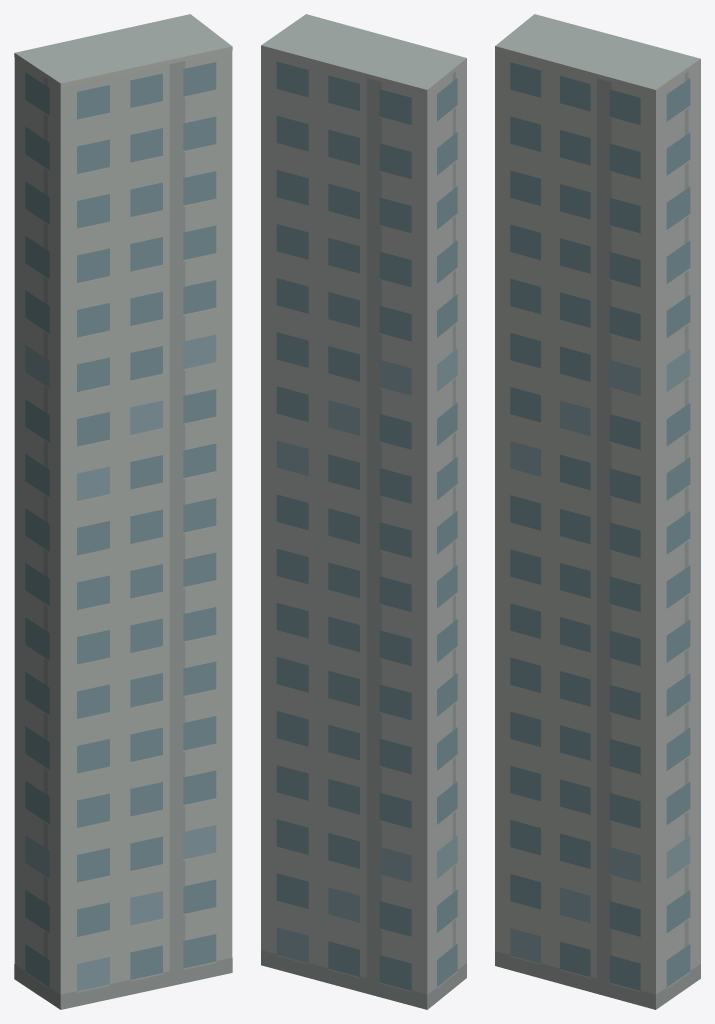
The model's file is survey-upis-32592218.glb.
3 renders of one model, left to right at view 1: azimuth 30°, elevation 25°; view 2: azimuth 150°, elevation 25°; view 3: azimuth 330°, elevation 25°, orthographic.
Visible parts, largest first — view 1: survey-upis-32592218.tmp; view 2: survey-upis-32592218.tmp; view 3: survey-upis-32592218.tmp.
Boxes of the visible parts, bbox=[...] form: survey-upis-32592218.tmp: bbox=[14, 14, 232, 1009]; survey-upis-32592218.tmp: bbox=[261, 14, 466, 1009]; survey-upis-32592218.tmp: bbox=[495, 14, 700, 1009].
Size of the model in its own units: 10.07 by 51.85 by 4.87.
